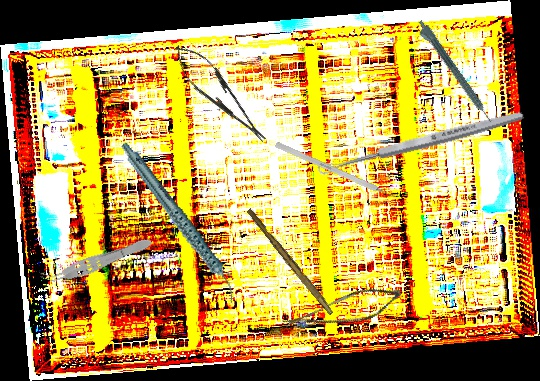Handpiece: (120, 125, 239, 319), (412, 18, 495, 128)
Hook Surgical: (274, 141, 403, 203)
Micro Scissor: (280, 268, 406, 355)
Needle Holder: (165, 36, 275, 152)
Scalpel Handle: (244, 207, 337, 316)
Surgical Spoon: (316, 108, 526, 177)
Tissue Forceps: (38, 232, 155, 291)
